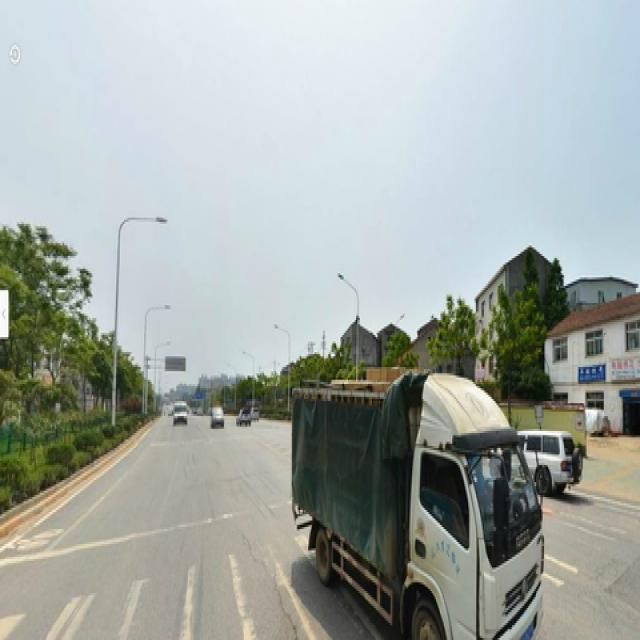koel: (21, 243, 76, 356), (487, 292, 529, 397), (440, 305, 472, 354)
